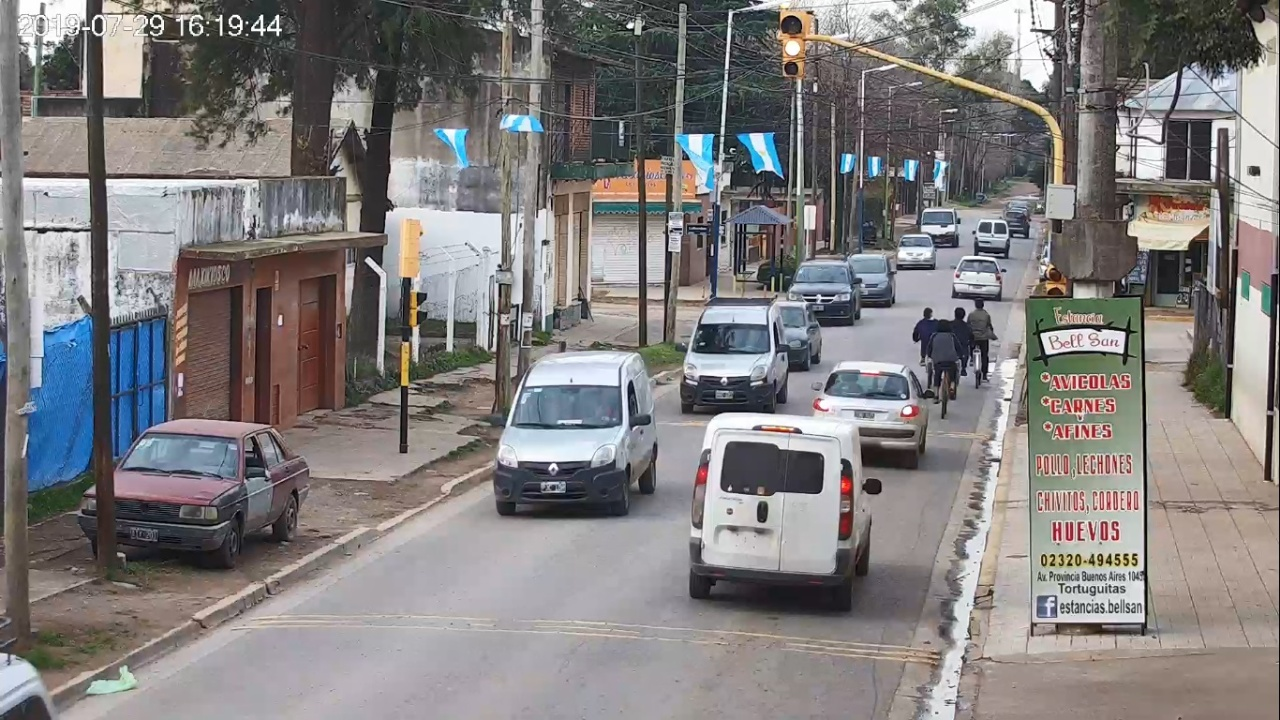car: (690, 411, 882, 611), (950, 256, 1007, 300)
front car: (491, 352, 659, 515)
traffic light: (781, 10, 804, 77)
